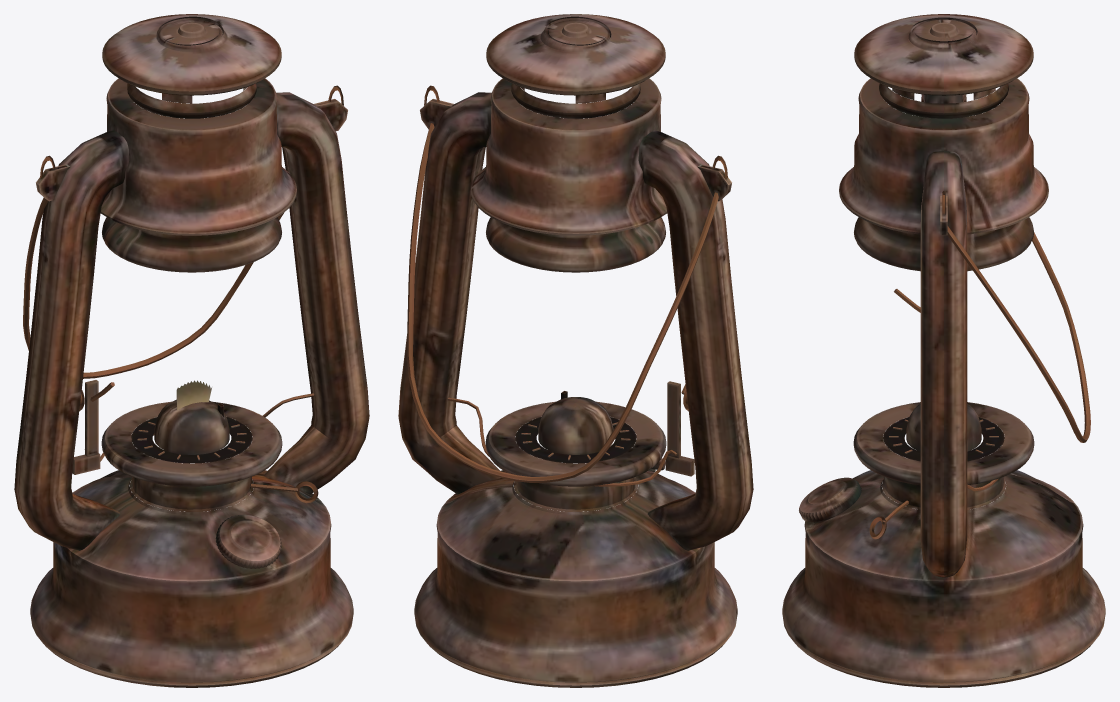
Rendered from lanterna_c.glb.
The picture shows the model from 3 angles, left to right: view 1: azimuth 30°, elevation 25°; view 2: azimuth 150°, elevation 25°; view 3: azimuth 270°, elevation 25°; orthographic projection.
Parts seen in each view (by area): view 1: Lanterna; view 2: Lanterna; view 3: Lanterna.
Part boxes in pixels (x1,y1,x2,y2): Lanterna: [14, 14, 369, 687]; Lanterna: [398, 14, 753, 687]; Lanterna: [782, 14, 1105, 687].
Bounding box in the file's own units: 0.2855 × 0.4804 × 0.2324.
1 material, 1 textured.
